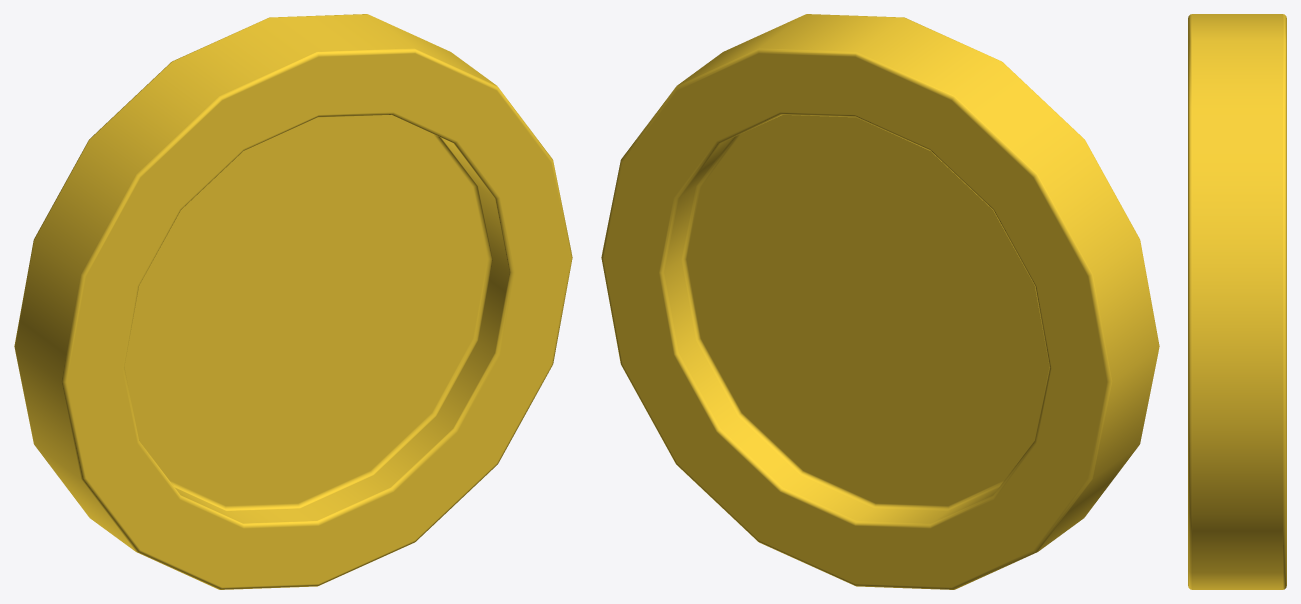
File: Coin.fbx
3 renders of one model, left to right at view 1: azimuth 30°, elevation 25°; view 2: azimuth 150°, elevation 25°; view 3: azimuth 270°, elevation 25°, orthographic. The views are drawn at different scales.
Parts seen in each view (by area): view 1: Coin.003; view 2: Coin.003; view 3: Coin.003.
Boxes of the visible parts, x1=… form: Coin.003: x1=14, y1=14, x2=572, y2=589; Coin.003: x1=601, y1=14, x2=1159, y2=589; Coin.003: x1=1188, y1=14, x2=1286, y2=589.
Bounding box in the file's own units: 98.35 × 16.84 × 98.35.
